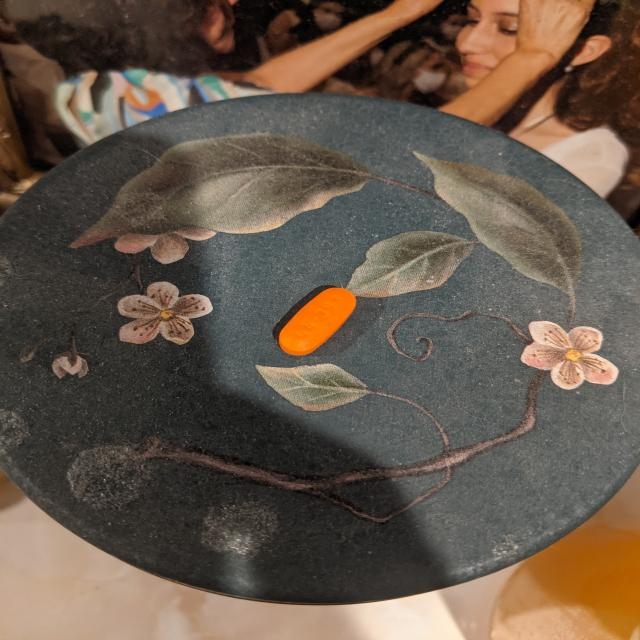non-organic waste: (277, 286, 358, 356)
